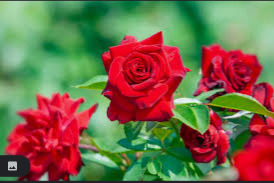RedRose: (93, 31, 190, 122), (0, 91, 92, 181), (179, 110, 232, 167), (204, 38, 257, 94), (243, 117, 274, 181)
